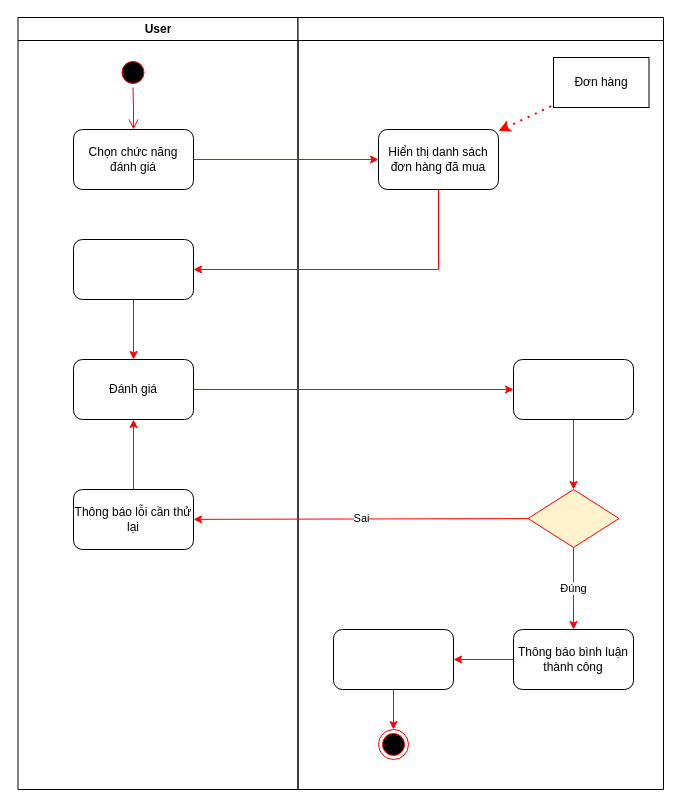
The diagram is 681 pixels wide and 807 high, and some of its shapes have lost their labels. The shapes that lost their labels are listed below. From the top down, each one's box as (x1, y1, x2, y2) in pixels, then its label:
(72, 238, 194, 300): Chọn đơn hàng cần đánh giá
(297, 16, 664, 790): System
(512, 358, 634, 420): Kiếm tra bình luận
(332, 628, 454, 690): Hiển thị bình luận
